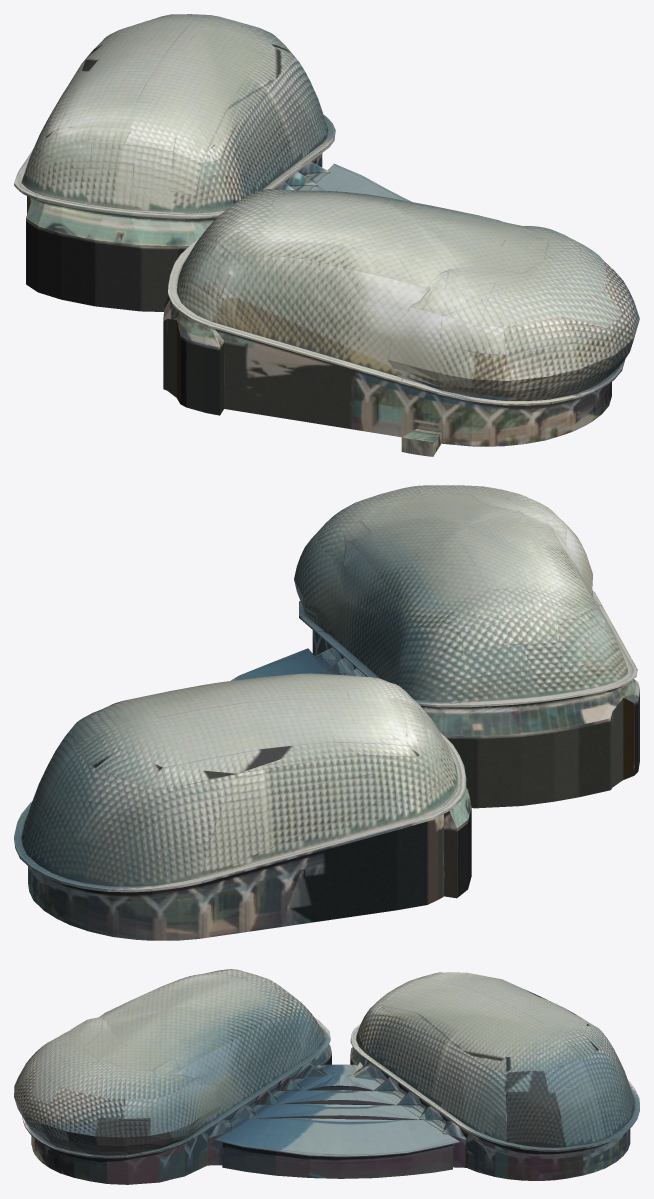
The picture shows the model from 3 angles, top to bottom: view 1: azimuth 30°, elevation 25°; view 2: azimuth 150°, elevation 25°; view 3: azimuth 270°, elevation 25°; orthographic projection. The views are drawn at different scales.
Parts seen in each view (by area): view 1: 12_0.glb; view 2: 12_0.glb; view 3: 12_0.glb.
Boxes of the visible parts, box(x1,y1,x2,y2) form: 12_0.glb: box(14, 14, 639, 456); 12_0.glb: box(14, 485, 639, 940); 12_0.glb: box(14, 969, 639, 1184).
Bounding box in the file's own units: 96.2 × 41.51 × 191.
Materials: 2 (2 with a texture image).
